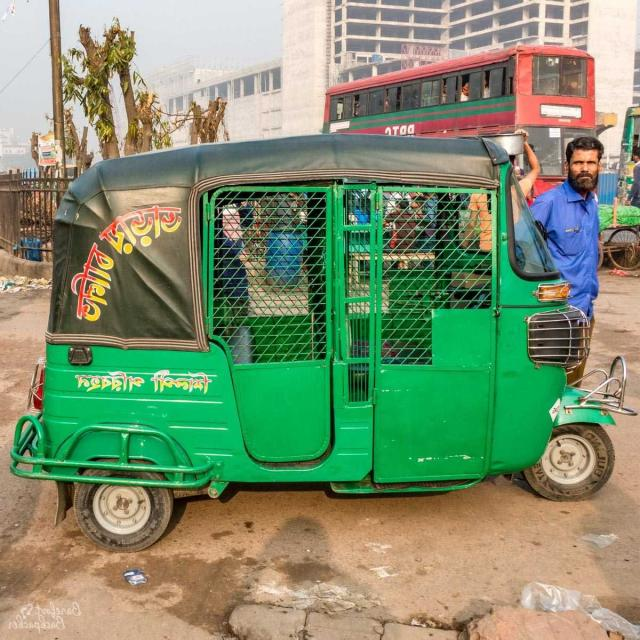CNG: (5, 97, 640, 541)
Double decker: (284, 27, 609, 281)
